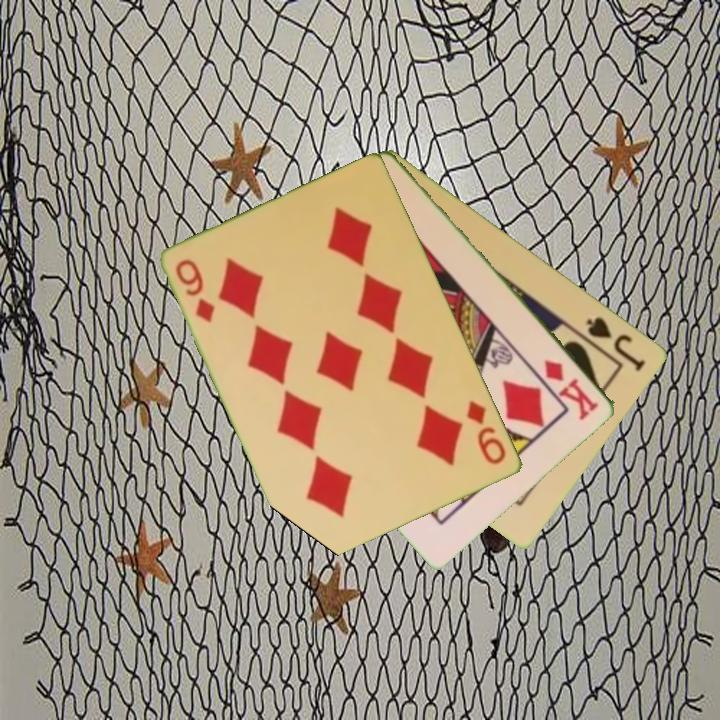9d: (463, 397, 510, 468), (172, 255, 219, 326)
Js: (582, 313, 649, 375)
Kd: (541, 355, 602, 422)
